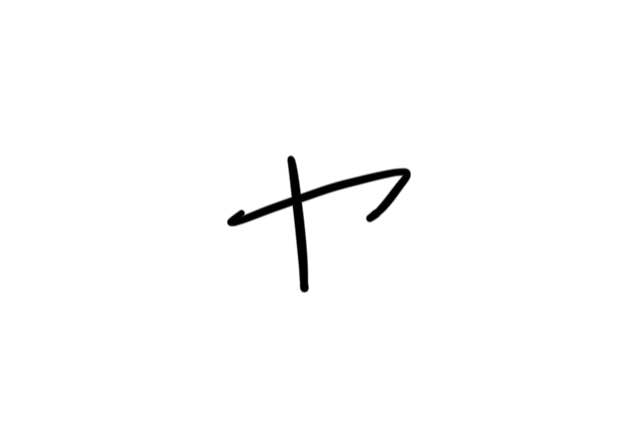ya: (198, 149, 423, 302)
